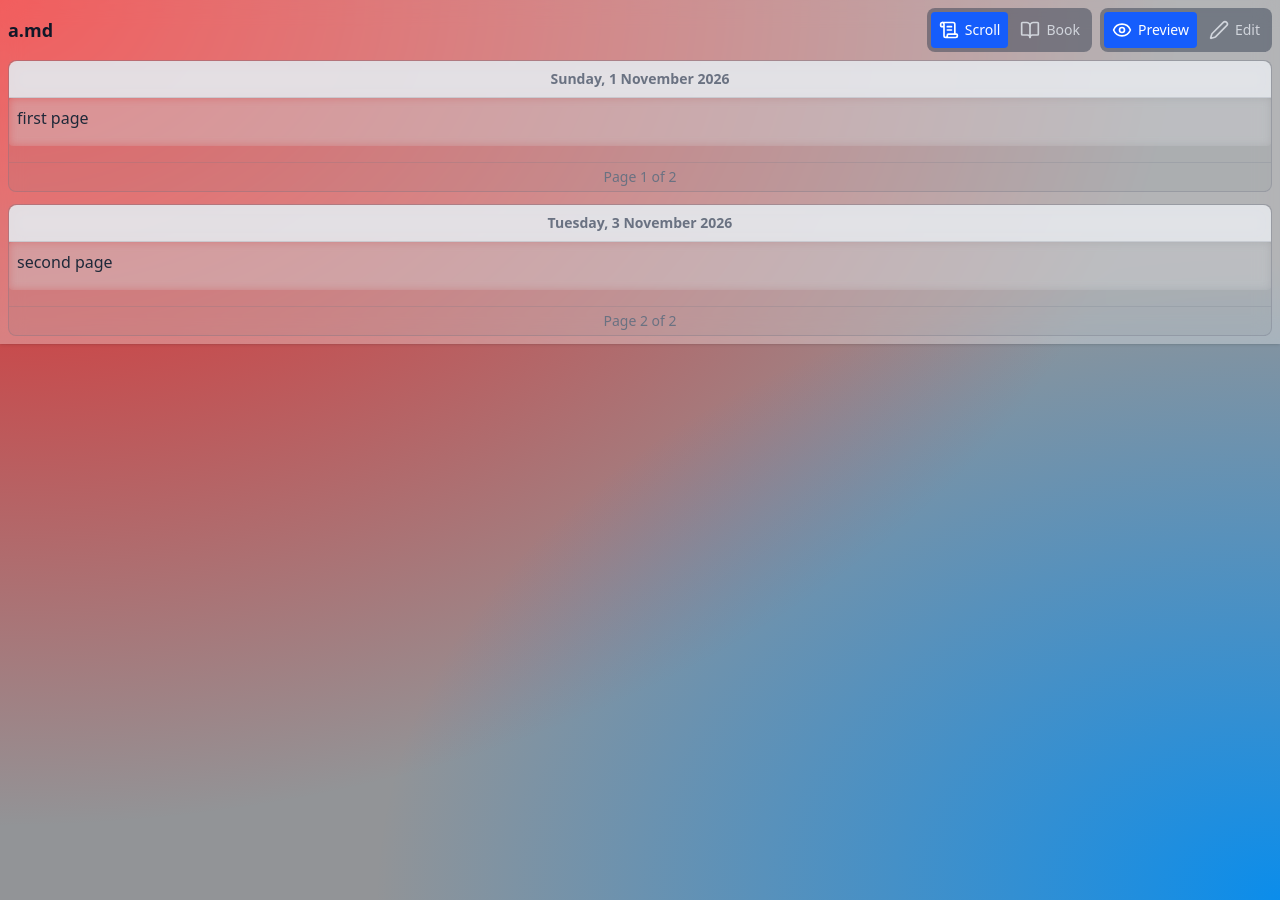
Test: DiaryEditor book view › turns pages with the arrow keys
The width and height of the screenshot is (1280, 900).
Click the button with aria-label "Book view" at (1050, 30), box [1012,12,1088,48]
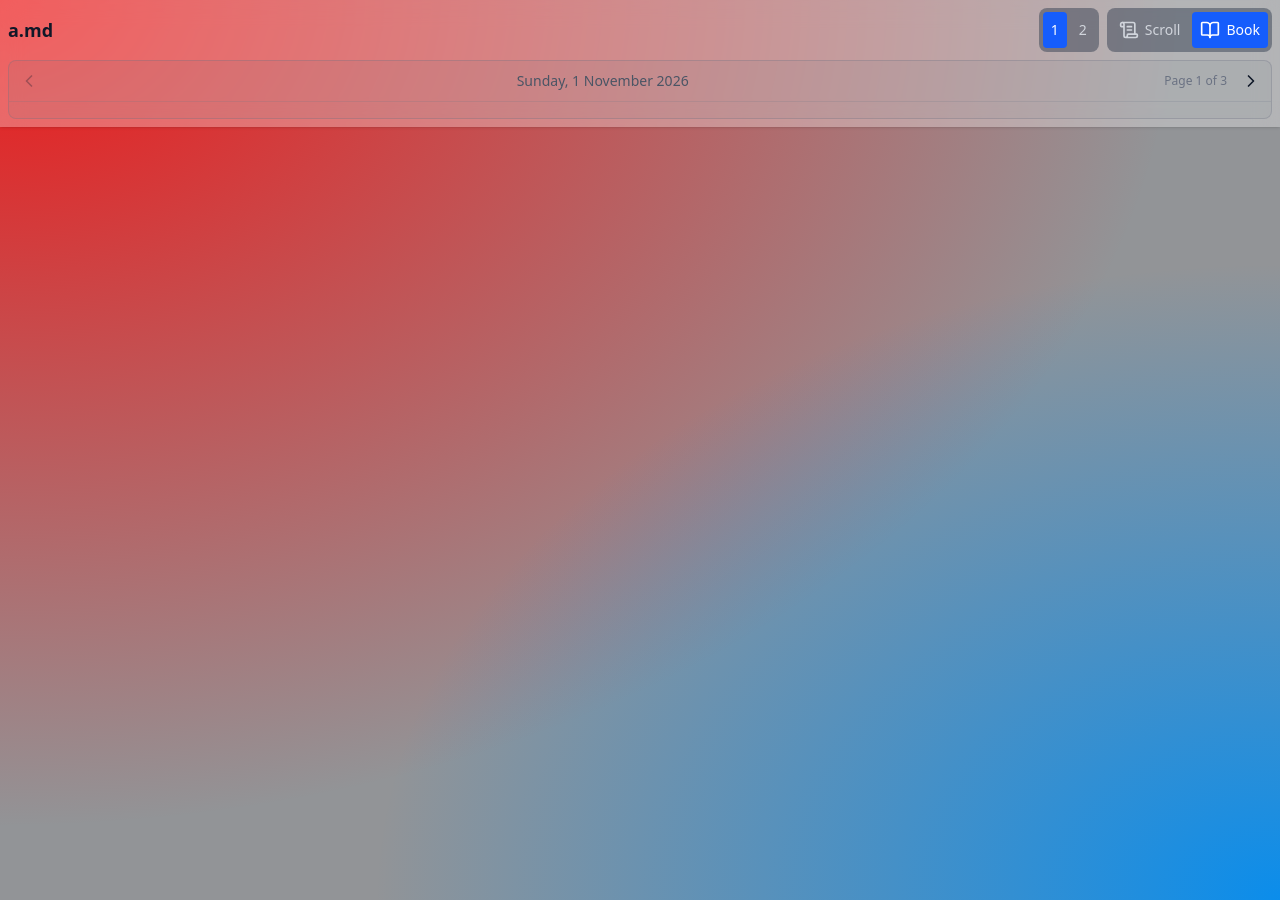
Press ArrowRight
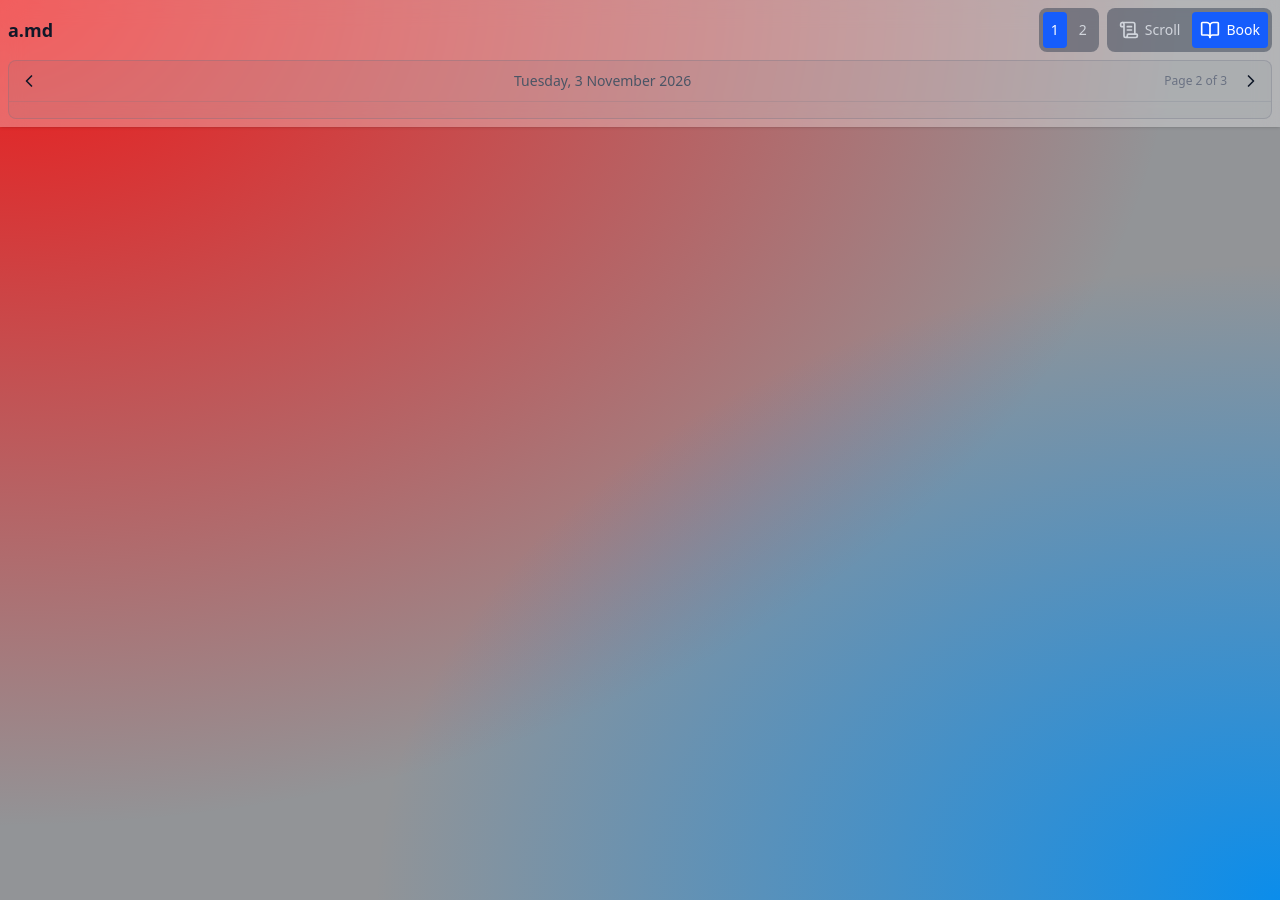
Expected: the text with test id "page-counter" reads "Page 2 of 3", [1160,73,1231,89]
Press ArrowLeft
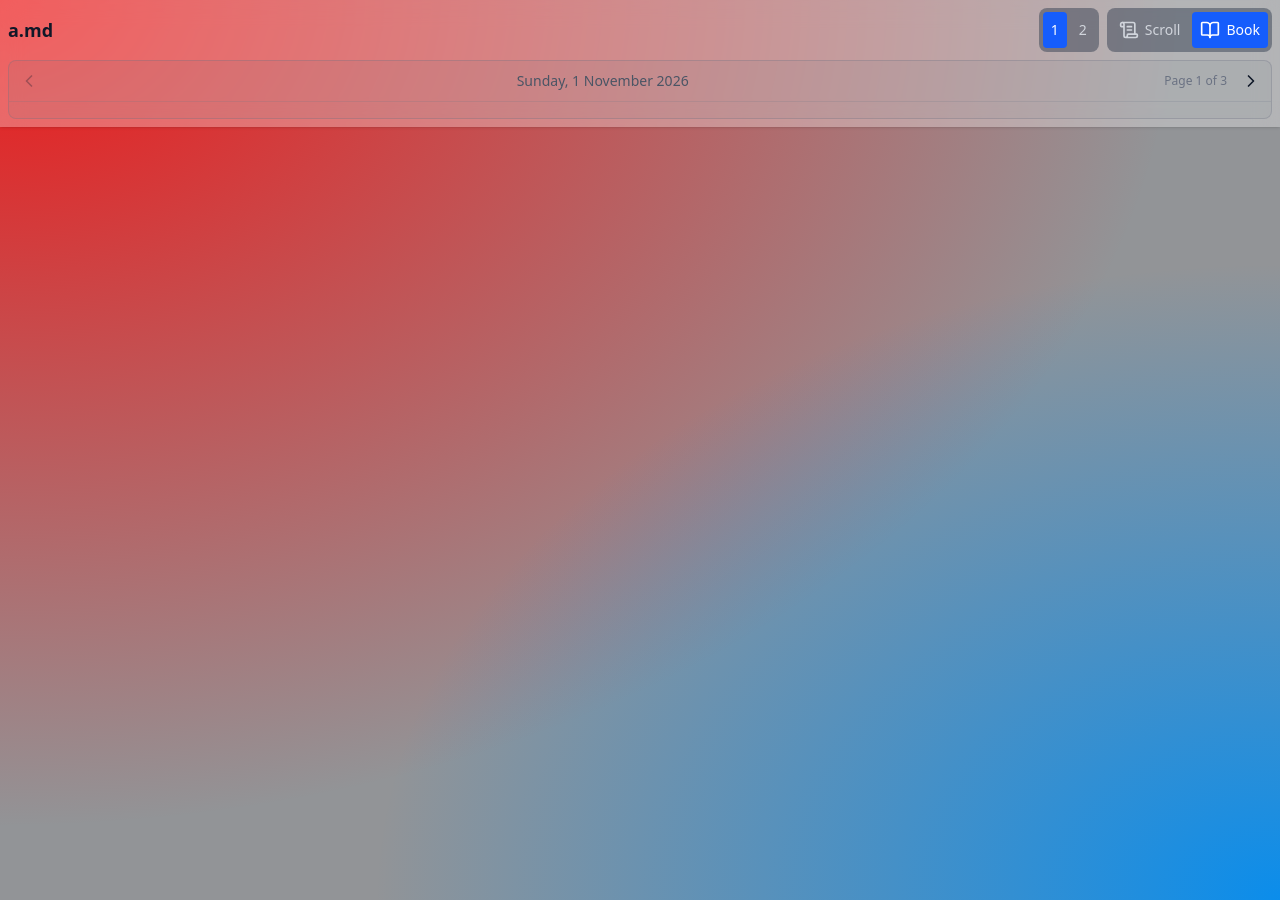
Expected: the text with test id "page-counter" reads "Page 1 of 3", [1160,73,1231,89]
